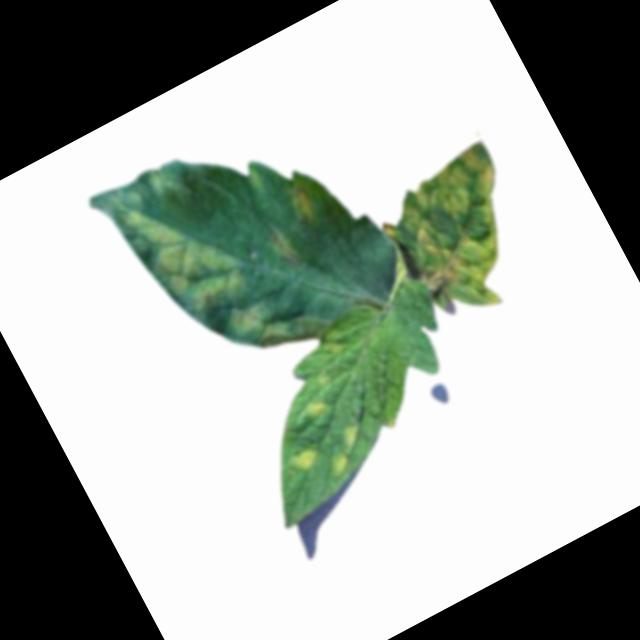Leaf_Mold: (123, 164, 300, 383), (369, 139, 558, 337), (316, 420, 375, 479), (283, 178, 322, 228), (289, 442, 321, 474), (303, 391, 334, 421)
